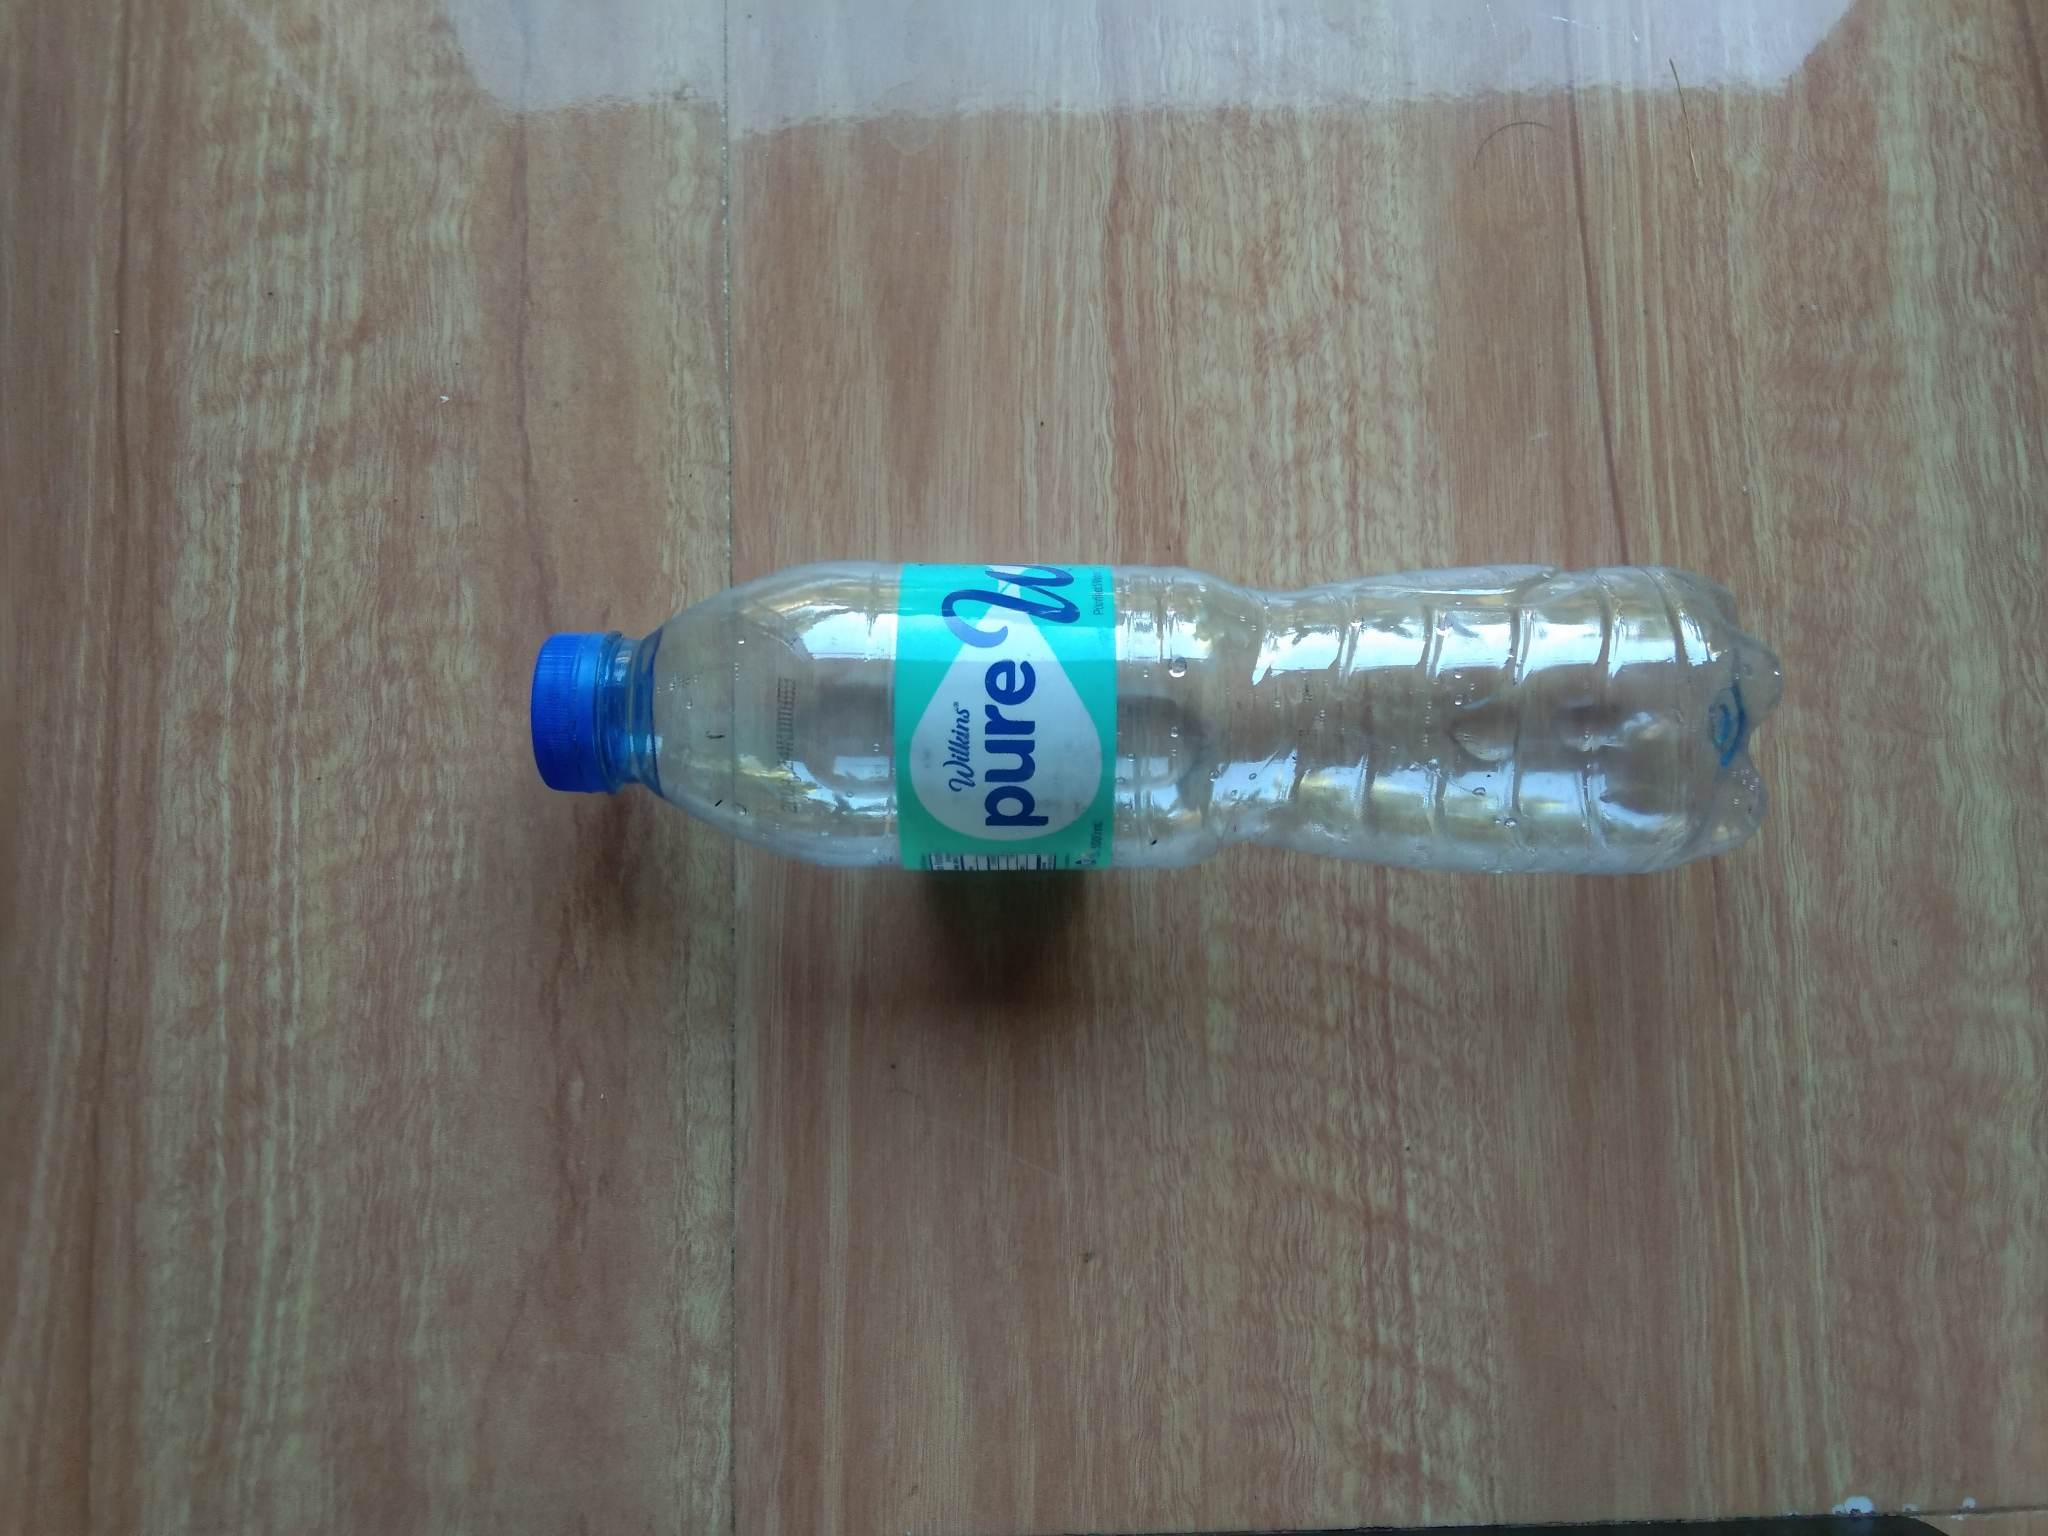plastic: (447, 523, 1817, 937)
